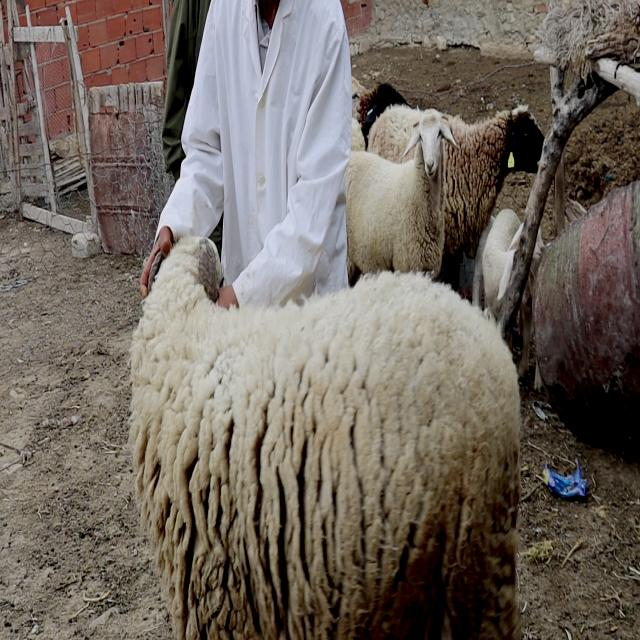Score_5: (129, 237, 521, 639)
